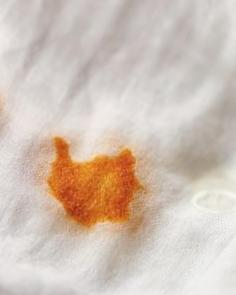stain: (38, 131, 149, 235)
